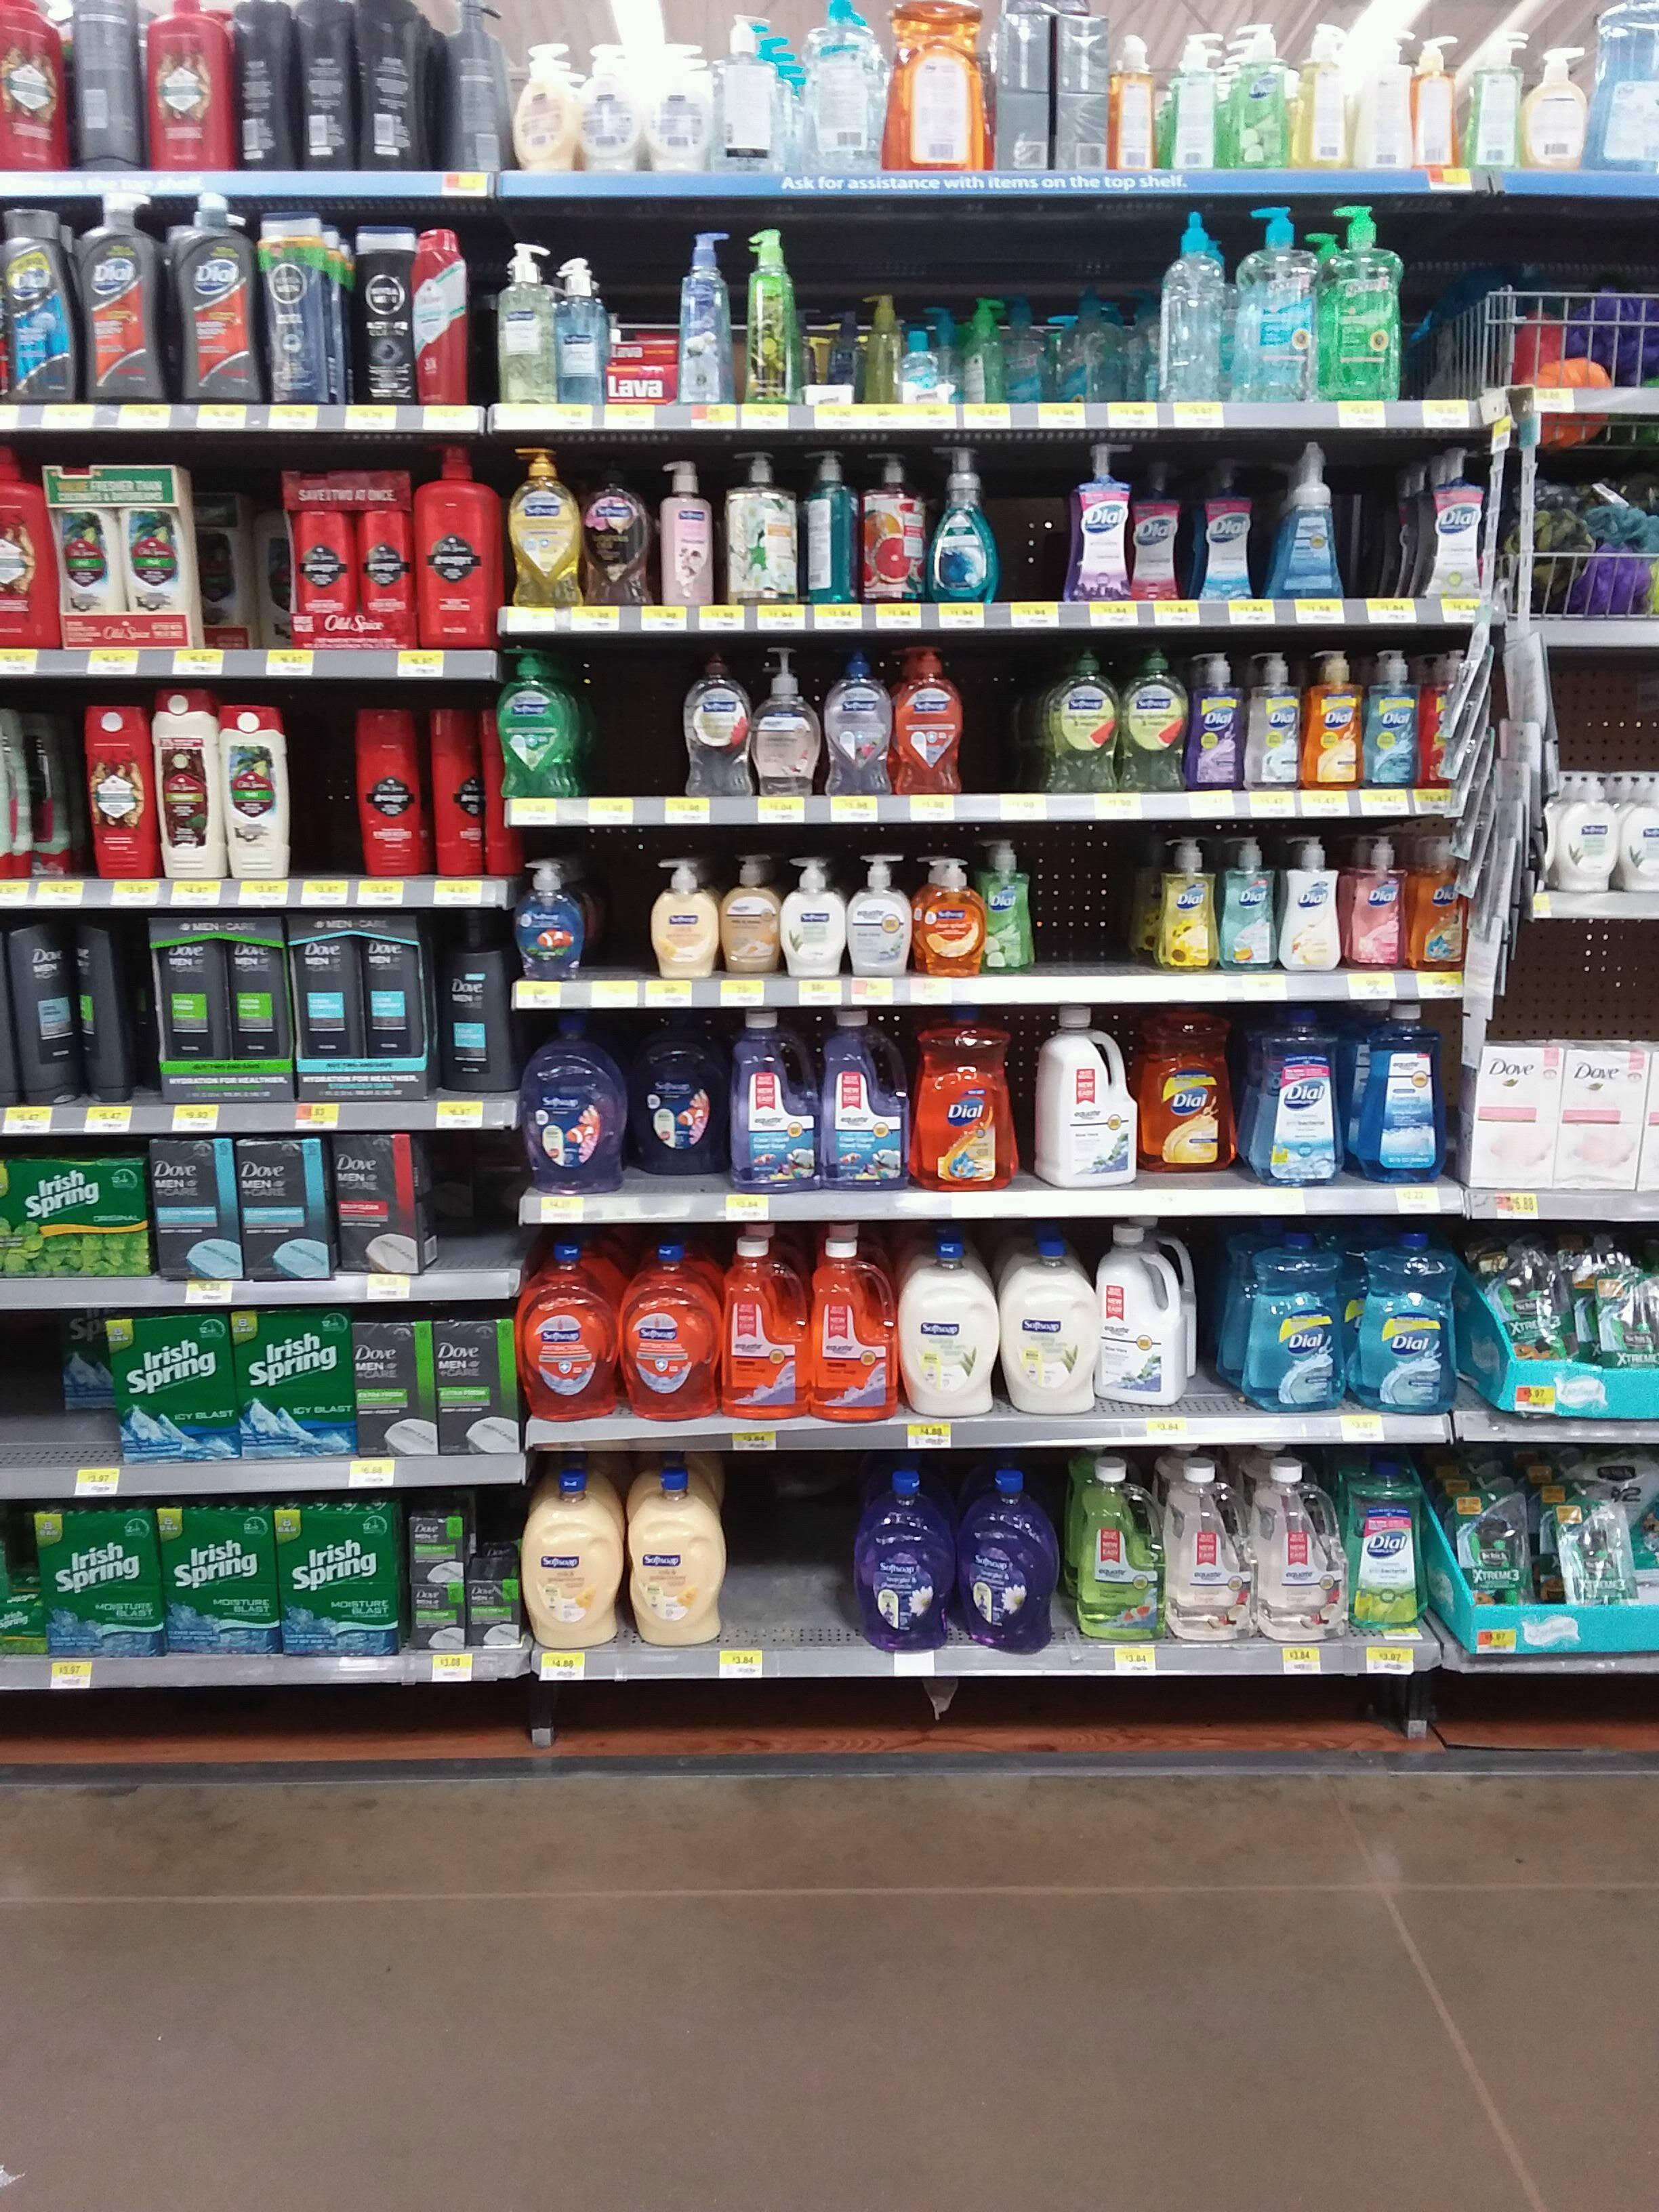empty: (725, 1463, 850, 1644), (593, 644, 680, 799), (1037, 838, 1124, 974), (999, 448, 1065, 601), (1406, 239, 1464, 401), (298, 714, 354, 866), (439, 1141, 509, 1259), (965, 644, 1016, 786), (593, 840, 643, 981), (1347, 458, 1384, 599)
misalignment: (798, 282, 1161, 404), (1098, 1216, 1216, 1406), (197, 482, 289, 651), (70, 927, 153, 1109)
